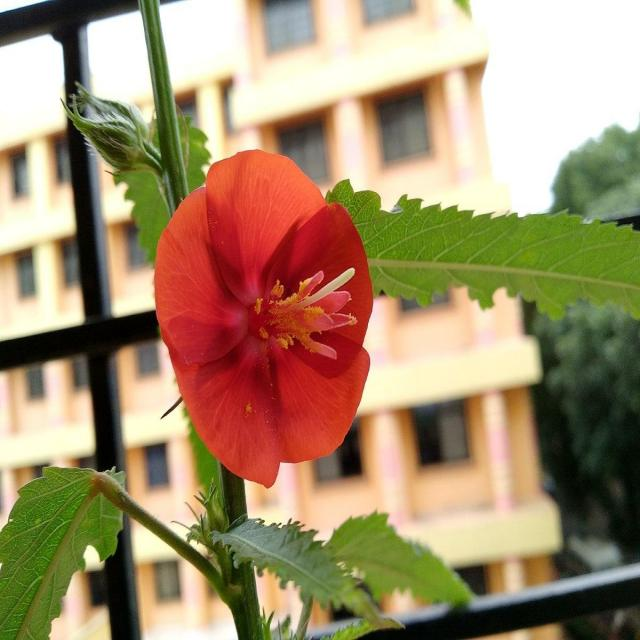organic waste: (157, 148, 383, 480)
